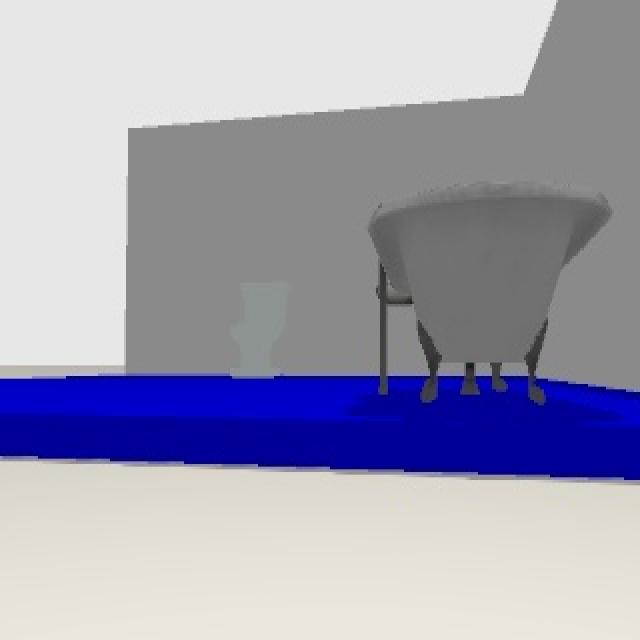bathtub: (368, 181, 616, 408)
